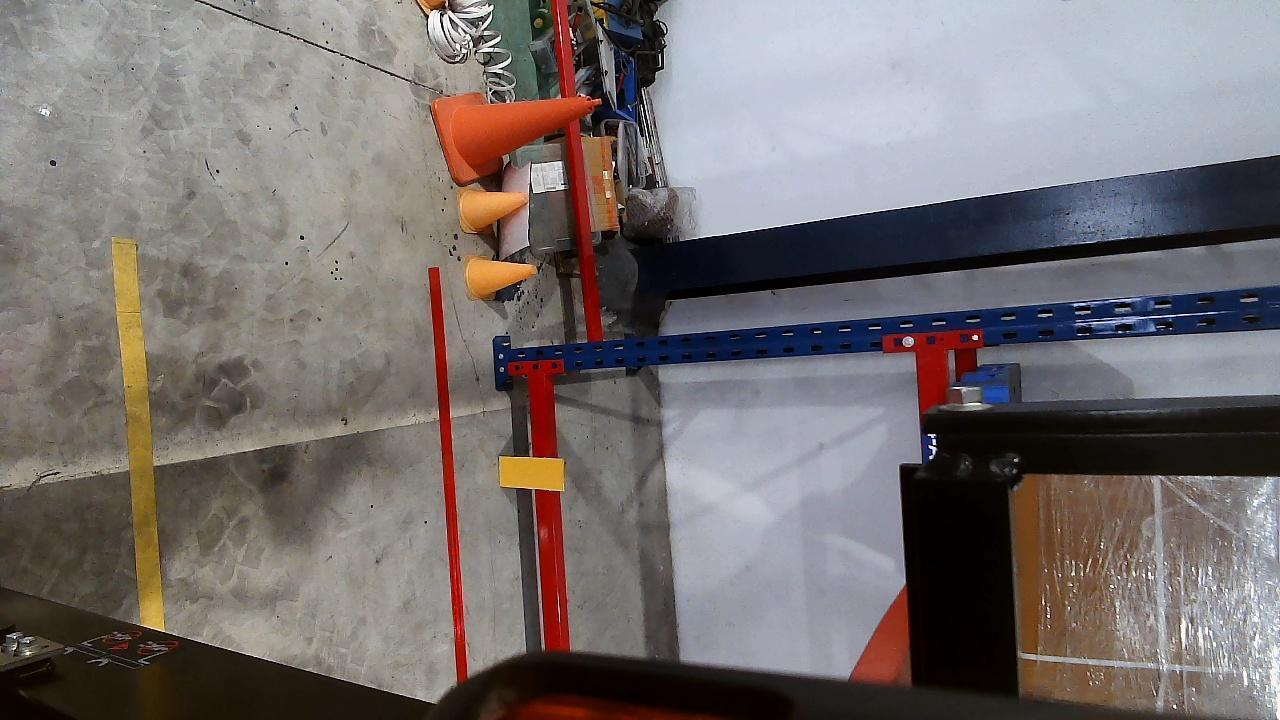red_line: (427, 270, 467, 681)
yellow_line: (109, 236, 164, 627)
